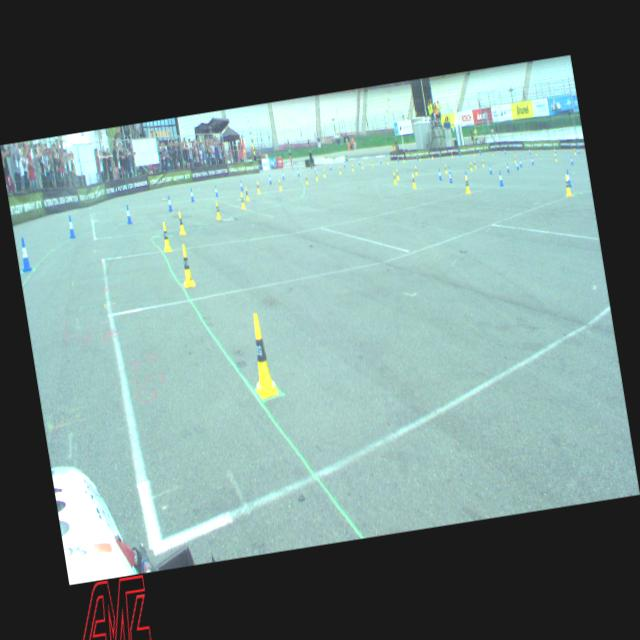blue_cone: (18, 237, 32, 271), (67, 215, 76, 238), (124, 204, 132, 224), (566, 170, 572, 187), (167, 195, 173, 211), (498, 170, 503, 187), (190, 188, 196, 202), (239, 180, 244, 192), (214, 185, 219, 197), (464, 172, 468, 186), (505, 162, 510, 173), (448, 172, 453, 182), (438, 169, 442, 180), (519, 158, 523, 167), (268, 174, 272, 183), (282, 170, 285, 180), (489, 164, 492, 173), (570, 156, 573, 164), (531, 157, 534, 165), (329, 162, 332, 170), (448, 166, 451, 174), (297, 168, 300, 176), (358, 158, 361, 166), (379, 157, 382, 164), (516, 160, 518, 170), (577, 148, 580, 154), (528, 148, 531, 154), (458, 150, 461, 156), (344, 160, 346, 168), (314, 166, 316, 174), (504, 148, 506, 155), (416, 154, 418, 160), (396, 156, 398, 162), (439, 152, 441, 158), (554, 148, 556, 154), (479, 150, 481, 154)
yellow_cone: (244, 313, 280, 398), (178, 244, 196, 288), (160, 222, 172, 252), (176, 211, 186, 235), (563, 174, 572, 197), (214, 200, 222, 220), (239, 192, 246, 209), (464, 176, 471, 193), (244, 186, 250, 202), (411, 174, 416, 188), (256, 180, 261, 193), (392, 172, 397, 184), (322, 168, 327, 178), (278, 179, 282, 190), (304, 174, 308, 185), (395, 169, 399, 180), (414, 165, 418, 175), (444, 164, 448, 173), (338, 166, 342, 174), (554, 154, 558, 162), (351, 164, 354, 172), (315, 172, 318, 180), (371, 160, 374, 168), (535, 148, 538, 156), (431, 152, 434, 160), (361, 162, 364, 169), (386, 158, 389, 165), (470, 162, 472, 171), (514, 150, 517, 156), (514, 155, 516, 163), (482, 159, 484, 167), (474, 160, 476, 168), (574, 148, 576, 155), (451, 151, 453, 158), (402, 156, 404, 163), (419, 154, 421, 161), (474, 150, 476, 156), (492, 150, 494, 156), (554, 150, 556, 154)
